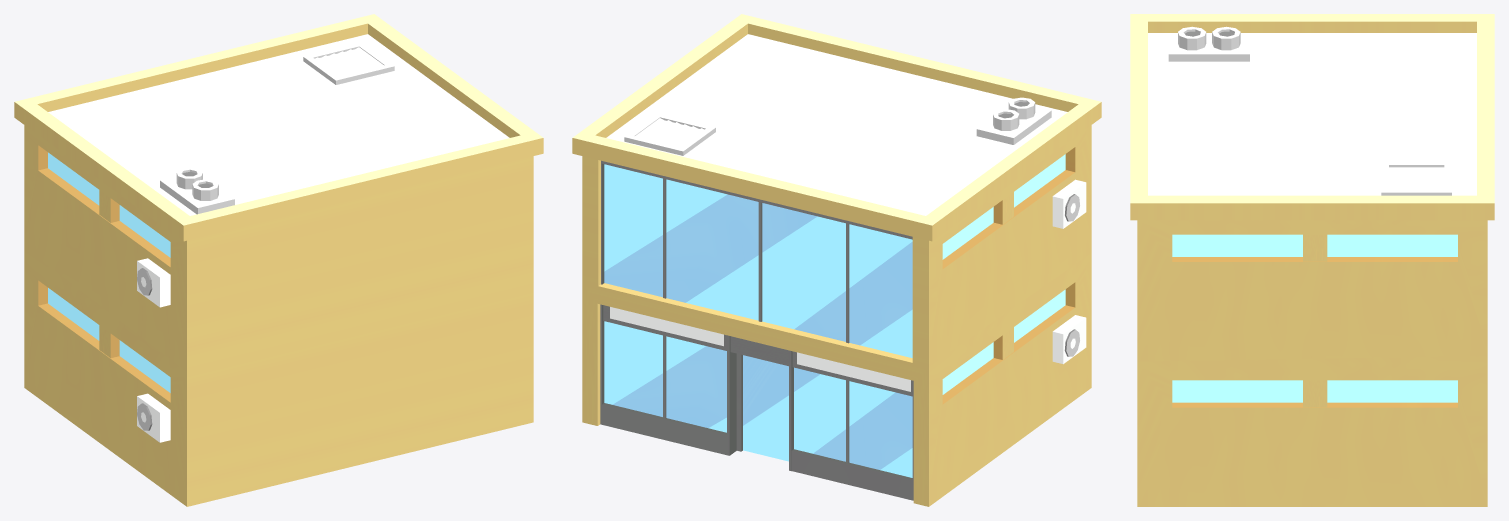
File: supermarket.007.glb
3 views of the same model, side by side, from view 1: azimuth 30°, elevation 25°; view 2: azimuth 150°, elevation 25°; view 3: azimuth 270°, elevation 25° (orthographic). The views are drawn at different scales.
Visible parts, largest first — view 1: supermarket.007(Clone); view 2: supermarket.007(Clone); view 3: supermarket.007(Clone).
Part boxes in pixels (left/top/right/bottom): supermarket.007(Clone): left=14, top=14, right=543, bottom=506; supermarket.007(Clone): left=572, top=14, right=1101, bottom=506; supermarket.007(Clone): left=1130, top=14, right=1494, bottom=506.
Bounding box in the file's own units: 7.52 × 5.75 × 6.03.
Materials: 1 (1 with a texture image).
